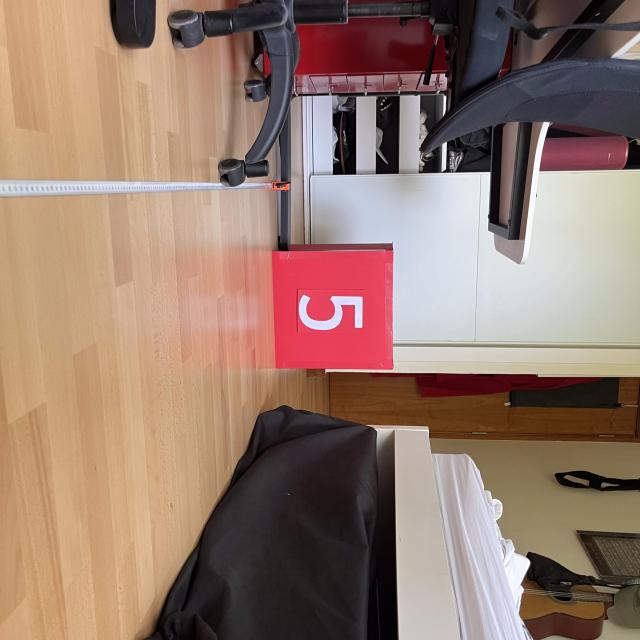box: (267, 240, 397, 373)
